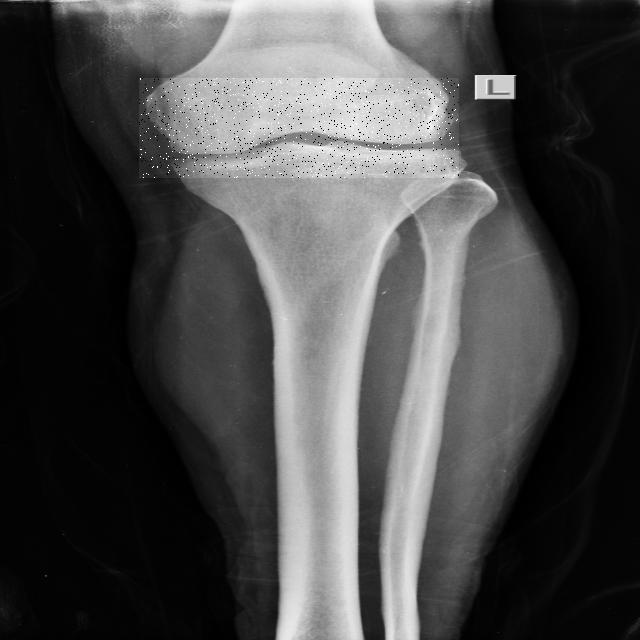osteo: (139, 78, 459, 178)
